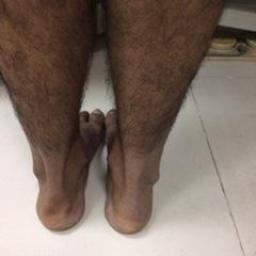Back View -Both Feet-: (10, 86, 202, 244)
